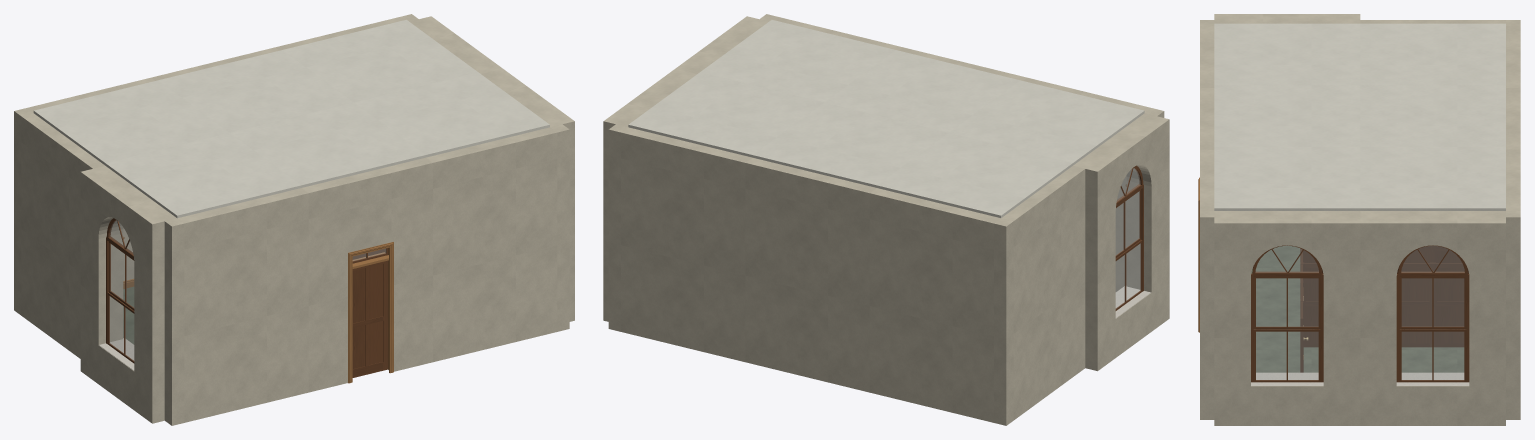
Rendered from X14_DEMO_LRS_Room_1953.glb.
The picture shows the model from 3 angles, left to right: view 1: azimuth 30°, elevation 25°; view 2: azimuth 150°, elevation 25°; view 3: azimuth 270°, elevation 25°; orthographic projection.
Visible parts, largest first — view 1: X14_ARCH_Wall_Plain_300_LOD0.s0, X14_ARCH_Wall_Plain_300_LOD0.s2, X14_ARCH_Wall_Door_300_LOD0.s1, X14_ARCH_Wall_Window_300_LOD0.w1, X14_ARCH_Wall_Plain_300_LOD0.w0, X14_ARCH_Ceiling_Coffered_300_LOD0.c00, X14_ARCH_Ceiling_Coffered_300_LOD0.c10, X14_ARCH_Ceiling_Coffered_300_LOD0.c20, X14_ARCH_Ceiling_Coffered_300_LOD0.c01, X14_ARCH_Ceiling_Coffered_300_LOD0.c11, X14_ARCH_Ceiling_Coffered_300_LOD0.c21, X14_ARCH_Corner_LOD0.k0 (+10 smaller); view 2: X14_ARCH_Wall_Plain_300_LOD0.n1, X14_ARCH_Wall_Plain_300_LOD0.n2, X14_ARCH_Wall_Plain_300_LOD0.n0, X14_ARCH_Wall_Window_300_LOD0.w1, X14_ARCH_Wall_Plain_300_LOD0.w0, X14_ARCH_Ceiling_Coffered_300_LOD0.c01, X14_ARCH_Ceiling_Coffered_300_LOD0.c21, X14_ARCH_Ceiling_Coffered_300_LOD0.c11, X14_ARCH_Ceiling_Coffered_300_LOD0.c00, X14_ARCH_Ceiling_Coffered_300_LOD0.c10, X14_ARCH_Ceiling_Coffered_300_LOD0.c20, X14_ARCH_Corner_LOD0.k3 (+7 smaller); view 3: X14_ARCH_Wall_Window_300_LOD0.e0, X14_ARCH_Wall_Window_300_LOD0.e1, X14_ARCH_Ceiling_Coffered_300_LOD0.c20, X14_ARCH_Ceiling_Coffered_300_LOD0.c21, X14_ARCH_Ceiling_Coffered_300_LOD0.c00, X14_ARCH_Ceiling_Coffered_300_LOD0.c01, X14_ARCH_Ceiling_Coffered_300_LOD0.c10, X14_ARCH_Ceiling_Coffered_300_LOD0.c11, X14_ARCH_Wall_Window_300_Glass_LOD0.e0, X14_ARCH_Wall_Window_300_Glass_LOD0.e1, X14_ARCH_Corner_LOD0.k1, X14_ARCH_Corner_LOD0.k2 (+17 smaller).
Part boxes in pixels (box(x1,y1,x2,y2)): X14_ARCH_Wall_Plain_300_LOD0.s0: box(177, 188, 308, 422); X14_ARCH_Wall_Plain_300_LOD0.s2: box(426, 127, 557, 362); X14_ARCH_Wall_Door_300_LOD0.s1: box(302, 157, 432, 392); X14_ARCH_Wall_Window_300_LOD0.w1: box(80, 166, 176, 423); X14_ARCH_Wall_Plain_300_LOD0.w0: box(21, 113, 104, 358); X14_ARCH_Ceiling_Coffered_300_LOD0.c00: box(105, 133, 301, 218); X14_ARCH_Ceiling_Coffered_300_LOD0.c10: box(230, 102, 425, 187); X14_ARCH_Ceiling_Coffered_300_LOD0.c20: box(354, 72, 549, 157); X14_ARCH_Ceiling_Coffered_300_LOD0.c01: box(33, 80, 229, 165); X14_ARCH_Ceiling_Coffered_300_LOD0.c11: box(158, 50, 353, 132); X14_ARCH_Ceiling_Coffered_300_LOD0.c21: box(282, 19, 477, 102); X14_ARCH_Corner_LOD0.k0: box(164, 218, 184, 425); X14_ARCH_Wall_Plain_300_LOD0.n1: box(745, 157, 876, 392); X14_ARCH_Wall_Plain_300_LOD0.n2: box(869, 188, 1000, 422); X14_ARCH_Wall_Plain_300_LOD0.n0: box(621, 127, 751, 361); X14_ARCH_Wall_Window_300_LOD0.w1: box(1073, 113, 1169, 371); X14_ARCH_Wall_Plain_300_LOD0.w0: box(1001, 166, 1085, 420); X14_ARCH_Ceiling_Coffered_300_LOD0.c01: box(877, 133, 1072, 217); X14_ARCH_Ceiling_Coffered_300_LOD0.c21: box(628, 72, 823, 157); X14_ARCH_Ceiling_Coffered_300_LOD0.c11: box(752, 102, 948, 187); X14_ARCH_Ceiling_Coffered_300_LOD0.c00: box(949, 80, 1144, 165); X14_ARCH_Ceiling_Coffered_300_LOD0.c10: box(824, 50, 1019, 132); X14_ARCH_Ceiling_Coffered_300_LOD0.c20: box(700, 20, 895, 102); X14_ARCH_Corner_LOD0.k3: box(994, 218, 1013, 425); X14_ARCH_Wall_Window_300_LOD0.e0: box(1214, 211, 1360, 425); X14_ARCH_Wall_Window_300_LOD0.e1: box(1360, 211, 1505, 425); X14_ARCH_Ceiling_Coffered_300_LOD0.c20: box(1214, 147, 1360, 210); X14_ARCH_Ceiling_Coffered_300_LOD0.c21: box(1360, 147, 1505, 210); X14_ARCH_Ceiling_Coffered_300_LOD0.c00: box(1214, 23, 1360, 85); X14_ARCH_Ceiling_Coffered_300_LOD0.c01: box(1360, 23, 1505, 85); X14_ARCH_Ceiling_Coffered_300_LOD0.c10: box(1214, 85, 1360, 146); X14_ARCH_Ceiling_Coffered_300_LOD0.c11: box(1360, 85, 1505, 146); X14_ARCH_Wall_Window_300_Glass_LOD0.e0: box(1256, 246, 1318, 379); X14_ARCH_Wall_Window_300_Glass_LOD0.e1: box(1401, 246, 1464, 379); X14_ARCH_Corner_LOD0.k1: box(1200, 211, 1214, 419); X14_ARCH_Corner_LOD0.k2: box(1506, 211, 1520, 419).
Size of what is drawn, in the model's own units: 10.2 by 4.66 by 6.63.
13 materials, 8 textured.
